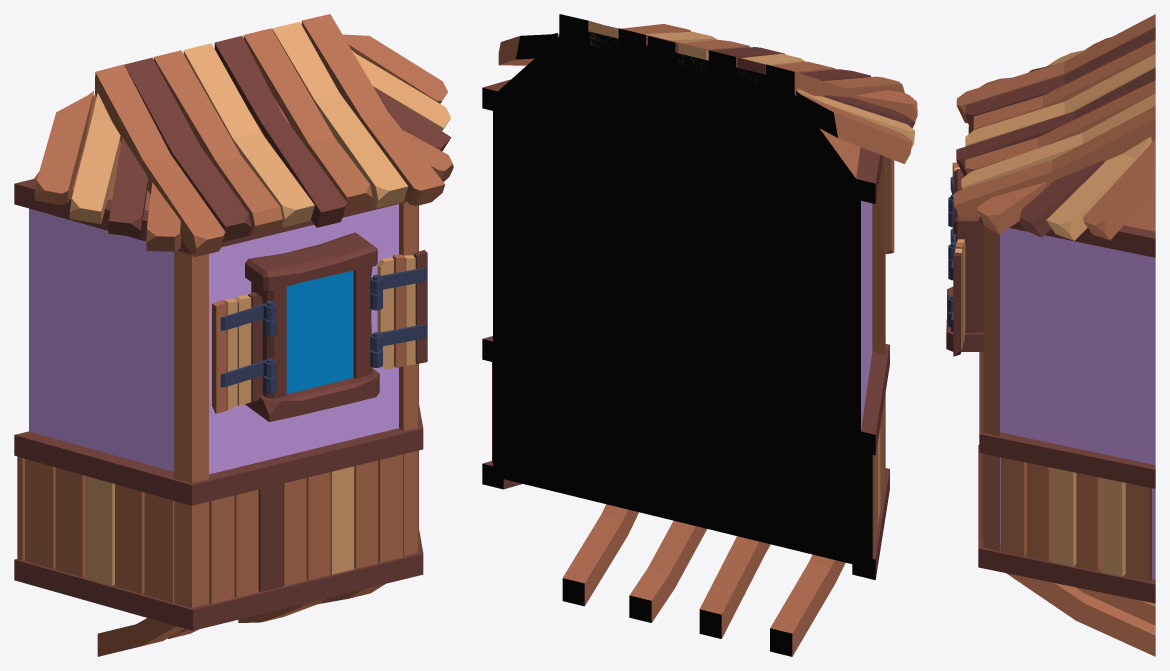
Rendered from Building Addon 05.fbx.
3 views of the same model, side by side, from view 1: azimuth 30°, elevation 25°; view 2: azimuth 150°, elevation 25°; view 3: azimuth 270°, elevation 25° (orthographic). The views are drawn at different scales.
Parts seen in each view (by area): view 1: Building Addon 05, WindowSiding 01.023, WindowSiding 02.024; view 2: Building Addon 05, WindowSiding 01.023; view 3: Building Addon 05, WindowSiding 02.024.
Boxes of the visible parts, box(x1,y1,x2,y2) form: Building Addon 05: box(14, 14, 453, 656); WindowSiding 01.023: box(212, 292, 276, 413); WindowSiding 02.024: box(370, 250, 427, 369); Building Addon 05: box(482, 14, 917, 656); WindowSiding 01.023: box(885, 157, 894, 254); Building Addon 05: box(946, 14, 1155, 656); WindowSiding 02.024: box(948, 239, 965, 356).
Size of the model in its own units: 502 by 683 by 240.
